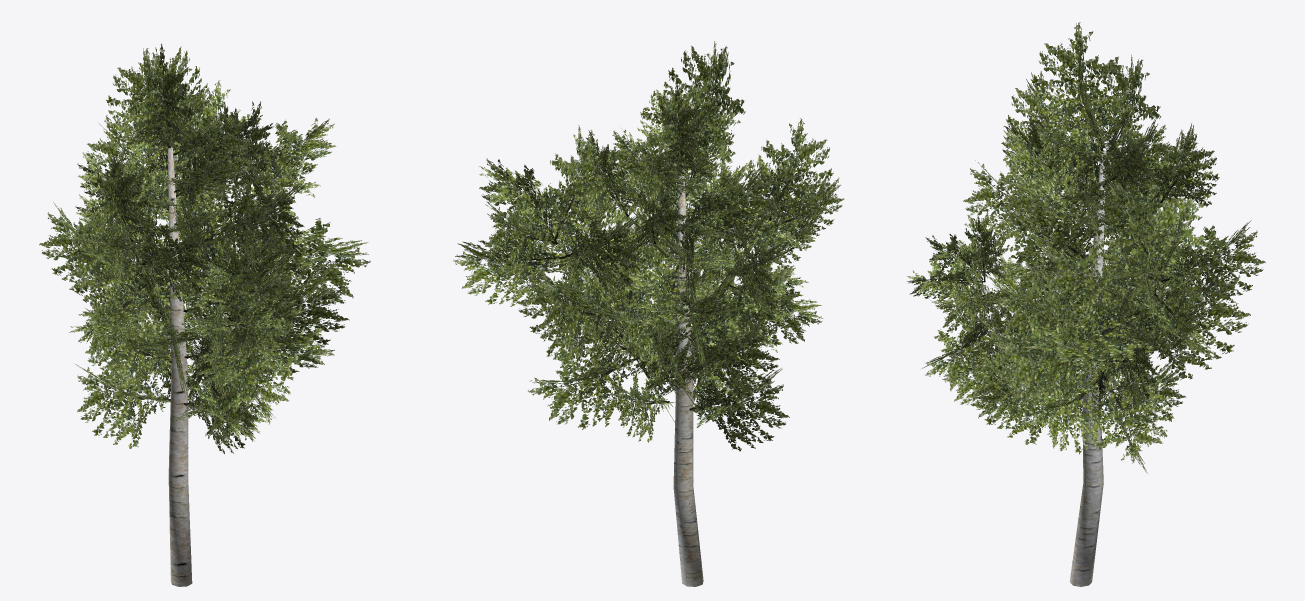
File: tree6_birch.obj
3 renders of one model, left to right at view 1: azimuth 30°, elevation 25°; view 2: azimuth 150°, elevation 25°; view 3: azimuth 270°, elevation 25°, orthographic.
Visible parts, largest first — view 1: tree6; view 2: tree6; view 3: tree6.
Part boxes in pixels (x1=…): tree6: x1=39, y1=43, x2=370, y2=586; tree6: x1=453, y1=41, x2=844, y2=586; tree6: x1=907, y1=22, x2=1265, y2=586.
Size of the model in its own units: 4.18 by 6.65 by 4.21.
Materials: 2 (2 with a texture image).
